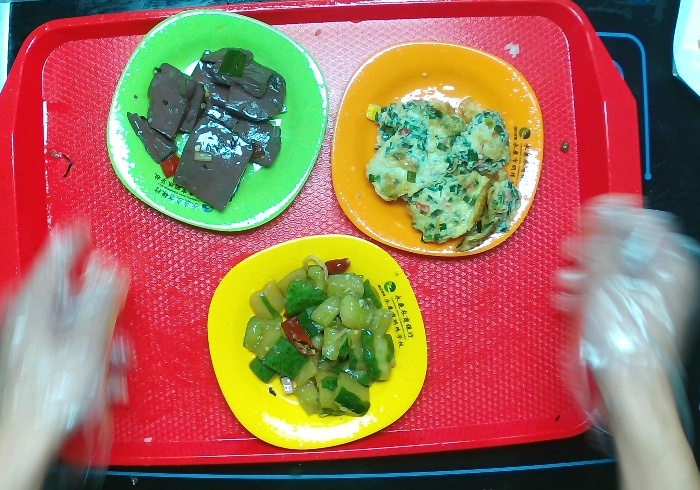YKMZ-Huang_Se_Fang_Die: (201, 229, 433, 461)
YKMZ-Ju_Se_Fang_Die: (327, 38, 552, 263)
YKMZ-Lv_Se_Fang_Die: (102, 5, 330, 240)
